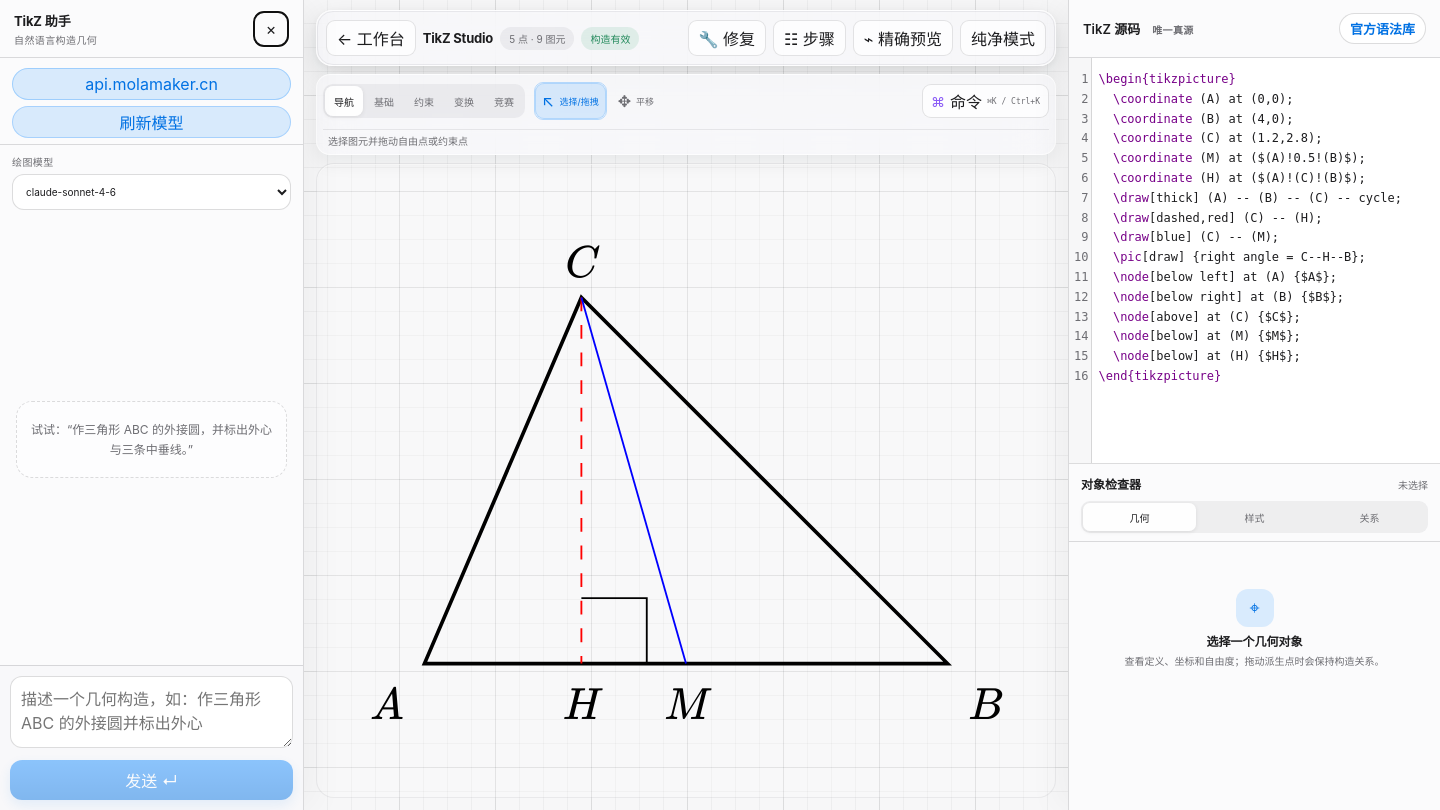
Test case: TikzStudio › stops the active Agent turn and recovers its durable cancellation terminal
Type "解释九点圆" into the text box named "几何构造描述" at point(152, 712), box [10,676,293,748]
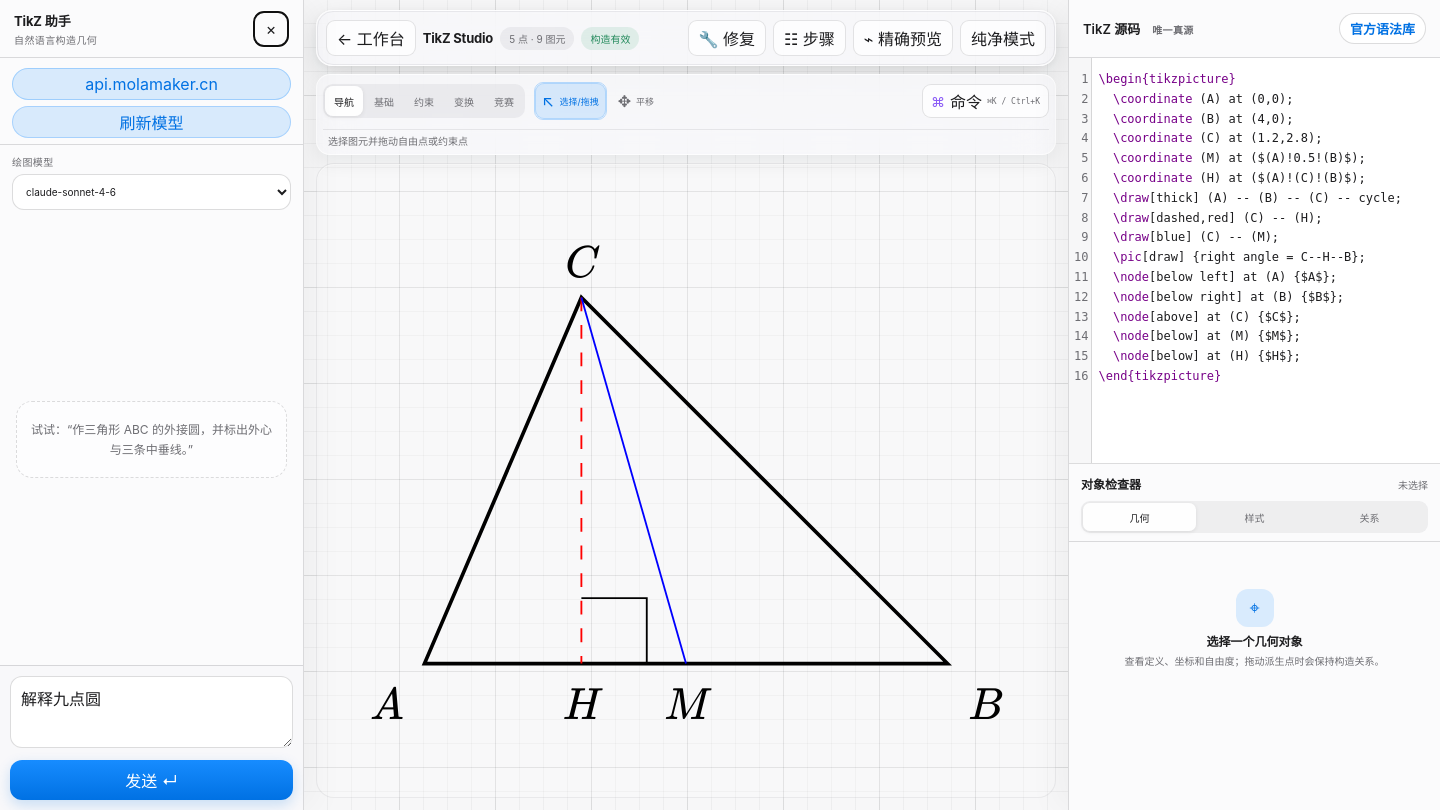
Click the button "发送 ↵" at point(152, 780), box [10,760,293,800]
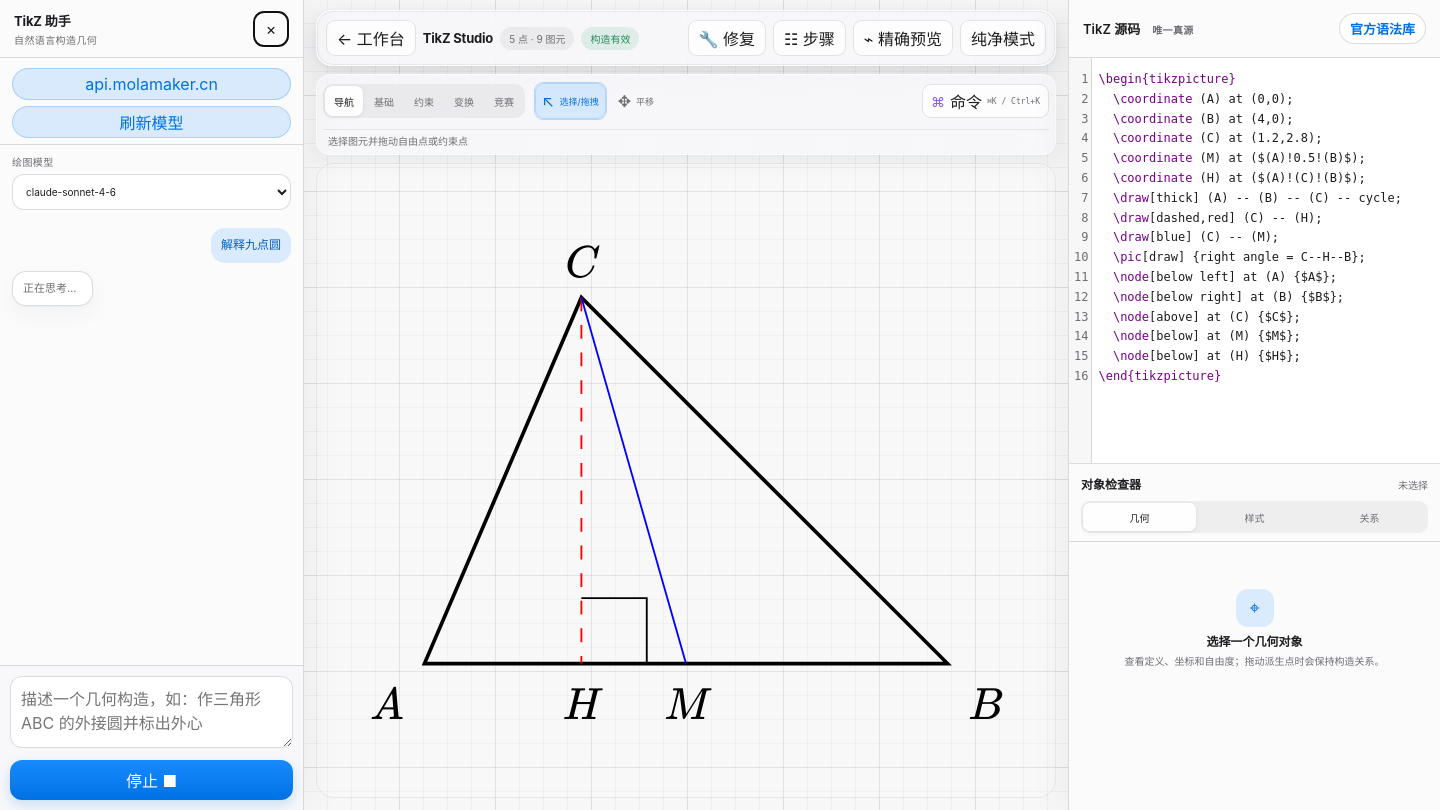
Click the button "停止 ■" at point(152, 780), box [10,760,293,800]
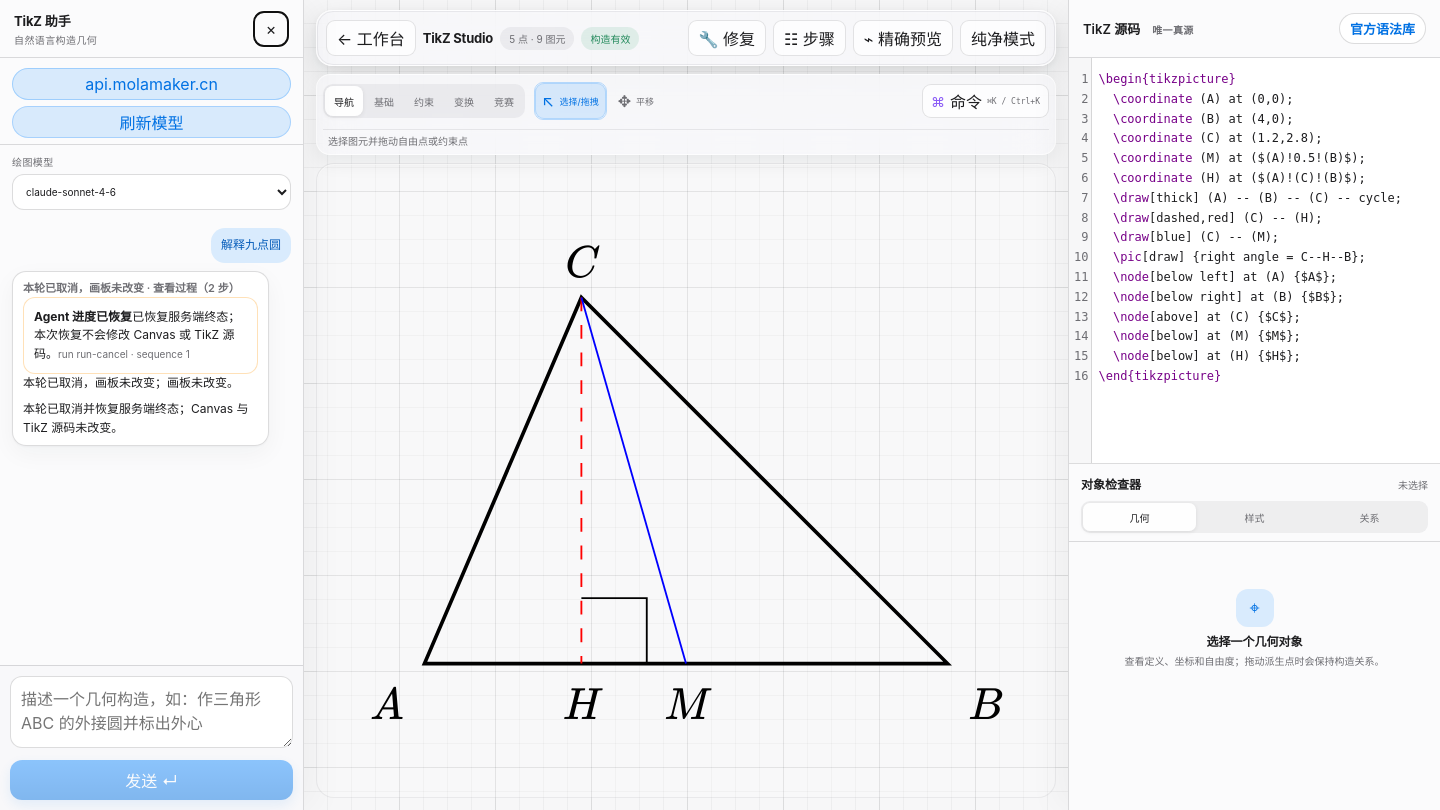
Now the text "本轮已取消并恢复服务端终态；Canvas 与 TikZ 源码未改变。" is shown, box [23,400,258,437]
Now the button "发送 ↵" is shown, box [10,760,293,800]
